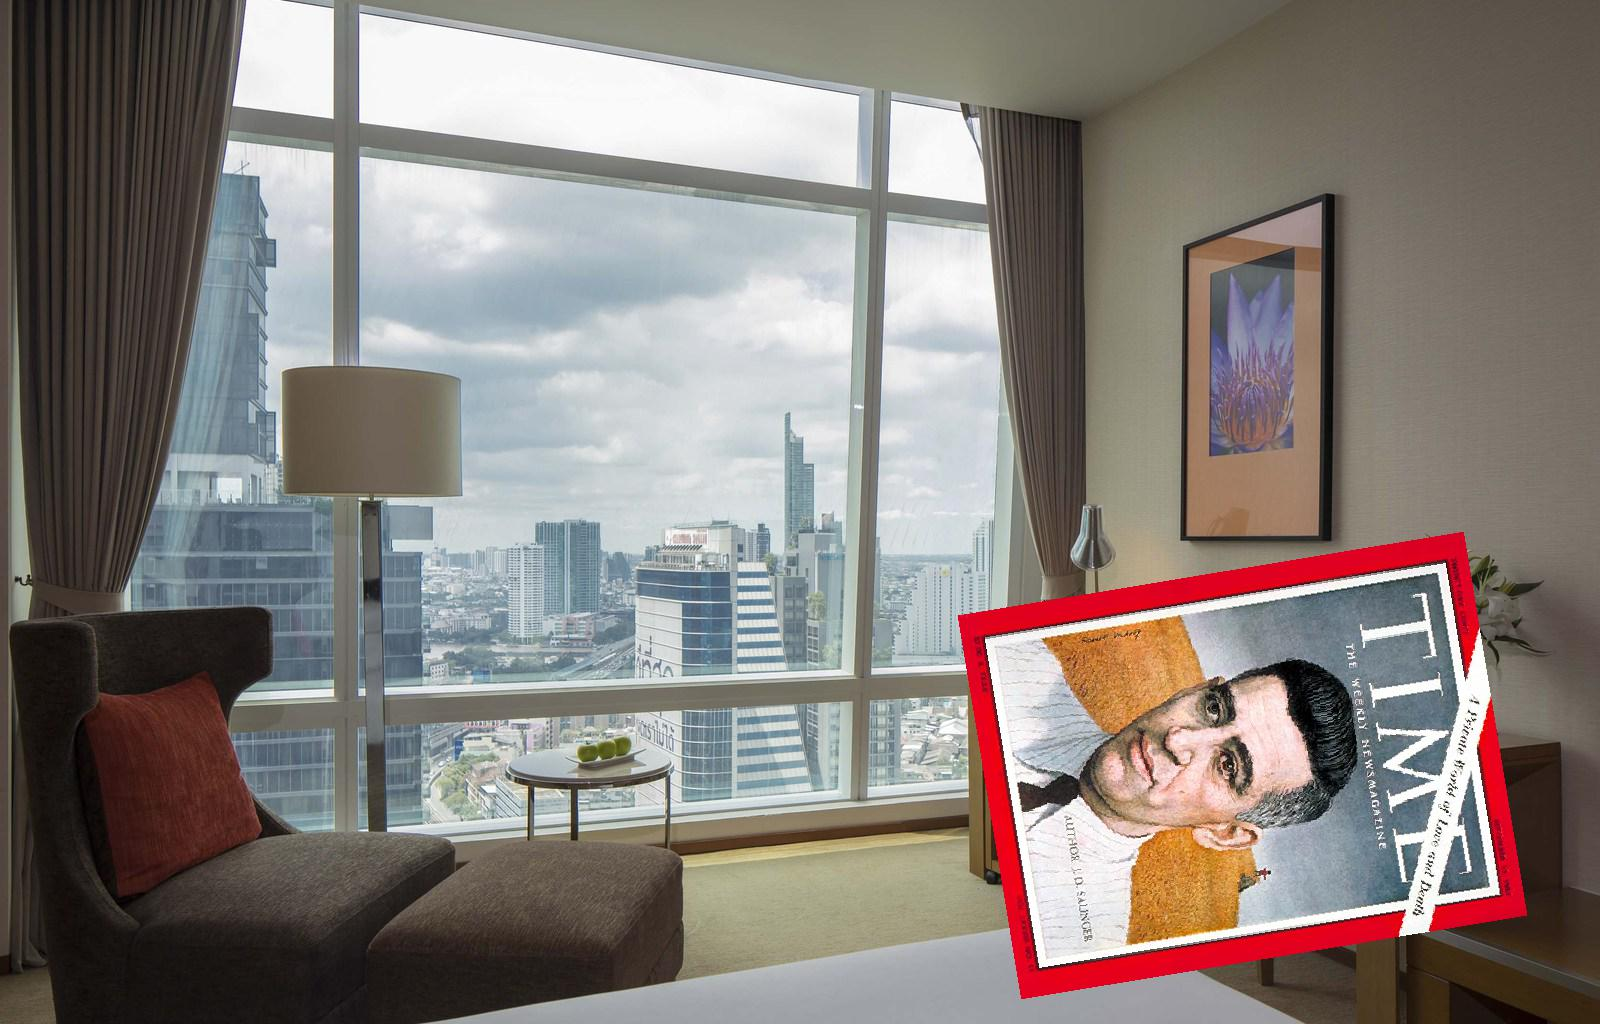times: (954, 526, 1529, 1001)
